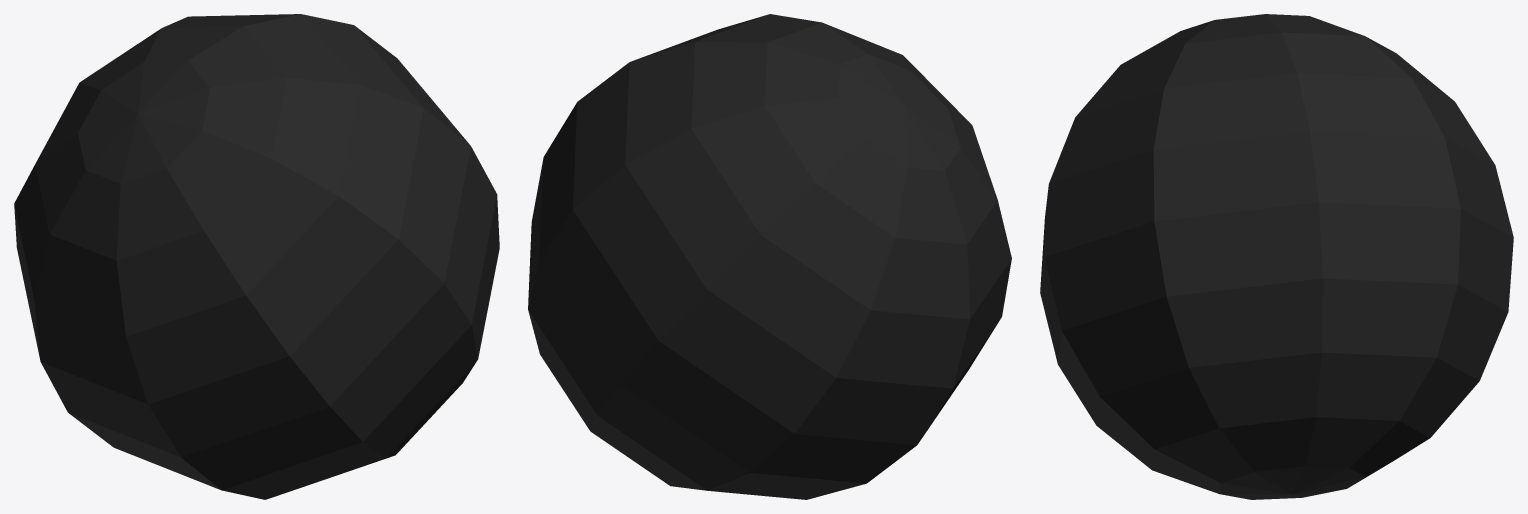
File: artillery_core.fbx
3 views of the same model, side by side, from view 1: azimuth 30°, elevation 25°; view 2: azimuth 150°, elevation 25°; view 3: azimuth 270°, elevation 25° (orthographic).
Parts seen in each view (by area): view 1: artillery_core; view 2: artillery_core; view 3: artillery_core.
Part boxes in pixels (<box>): artillery_core: <box>14,14,499,499</box>; artillery_core: <box>528,14,1011,499</box>; artillery_core: <box>1040,14,1513,499</box>.
Size of the model in its own units: 36.66 by 36.86 by 36.02.
